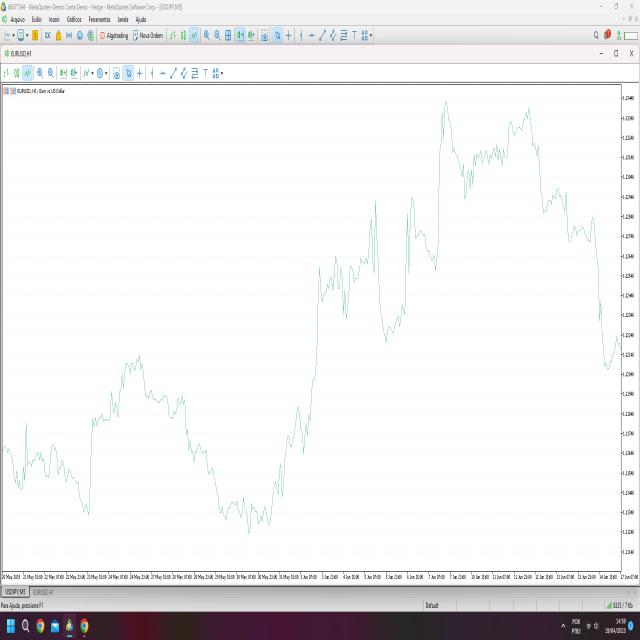bandeira_alta: (297, 194, 370, 399), (84, 360, 119, 517)
oco_inv: (232, 487, 264, 542)
topo_duplo: (430, 88, 548, 352)
